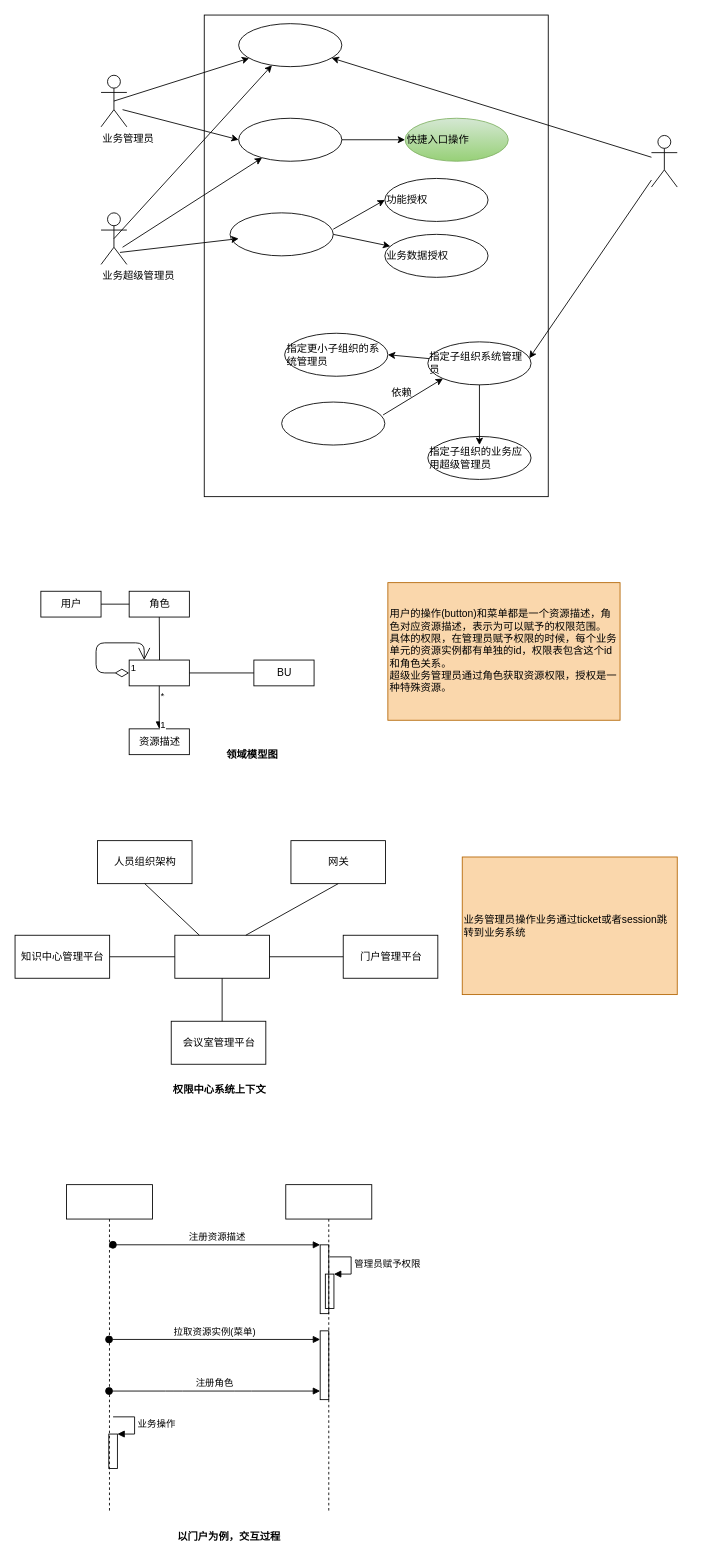
The diagram is 720 pixels wide and 1561 high, and some of its shapes have lost their labels. The shapes that lost their labels are listed below. From the top down, each one's box as (x1, y1, x2, y2) in pixels, then its label:
(238, 23, 342, 67): 复制权限给其他人
(238, 117, 342, 161): 发起业务操作
(651, 135, 677, 187): 系统管理员
(229, 212, 333, 256): 授权业务管理员
(281, 401, 385, 445): 在管理平台指定某个组织为BU
(128, 659, 189, 686): 资源实例
(174, 934, 269, 978): 权限中心系统
(66, 1184, 152, 1511): :门户管理平台
(285, 1184, 372, 1511): :权限中心
